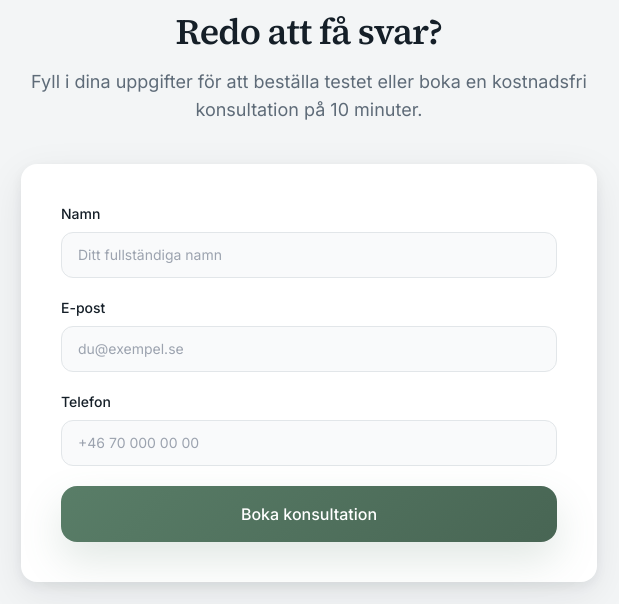
it: LeadCaptureSection › shows the edge error message when routing fails
This screenshot has width=619, height=604.
Type "Anna Holm" into the field labelled "Namn" at (309, 255), box [61,232,557,278]
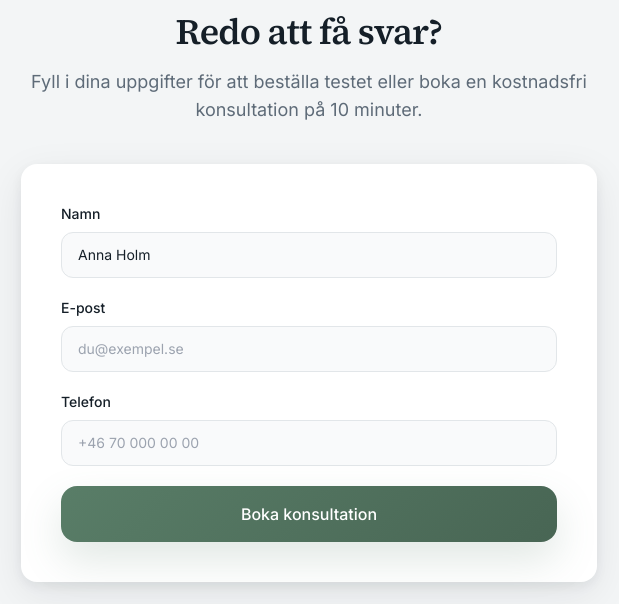
Type "anna@example.com" into the field labelled "E-post" at (309, 349), box [61,326,557,372]
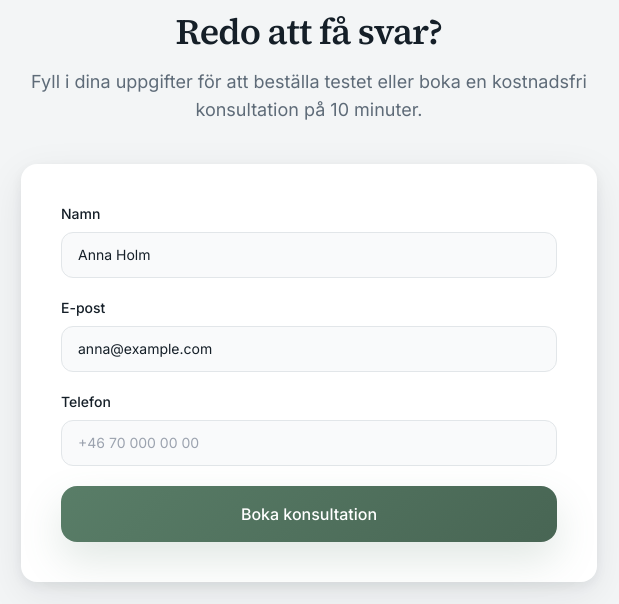
Click the button "Boka konsultation" at (309, 514), box [61,486,557,542]
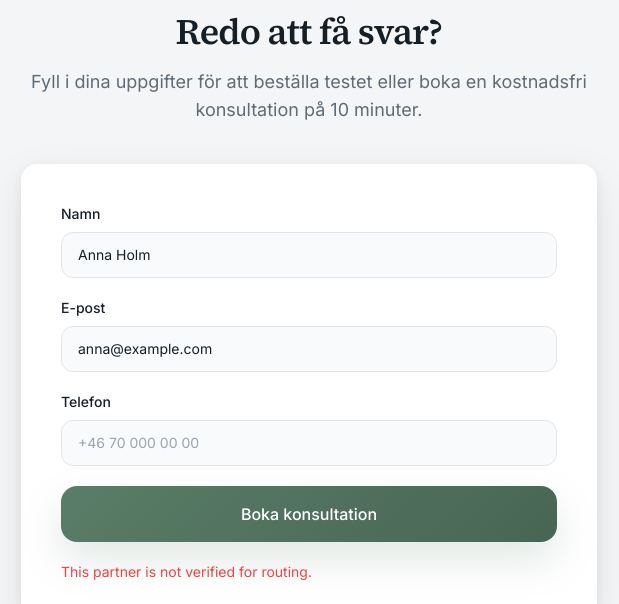
Expected: the text "This partner is not verified for routing." is shown, [61,563,312,580]
